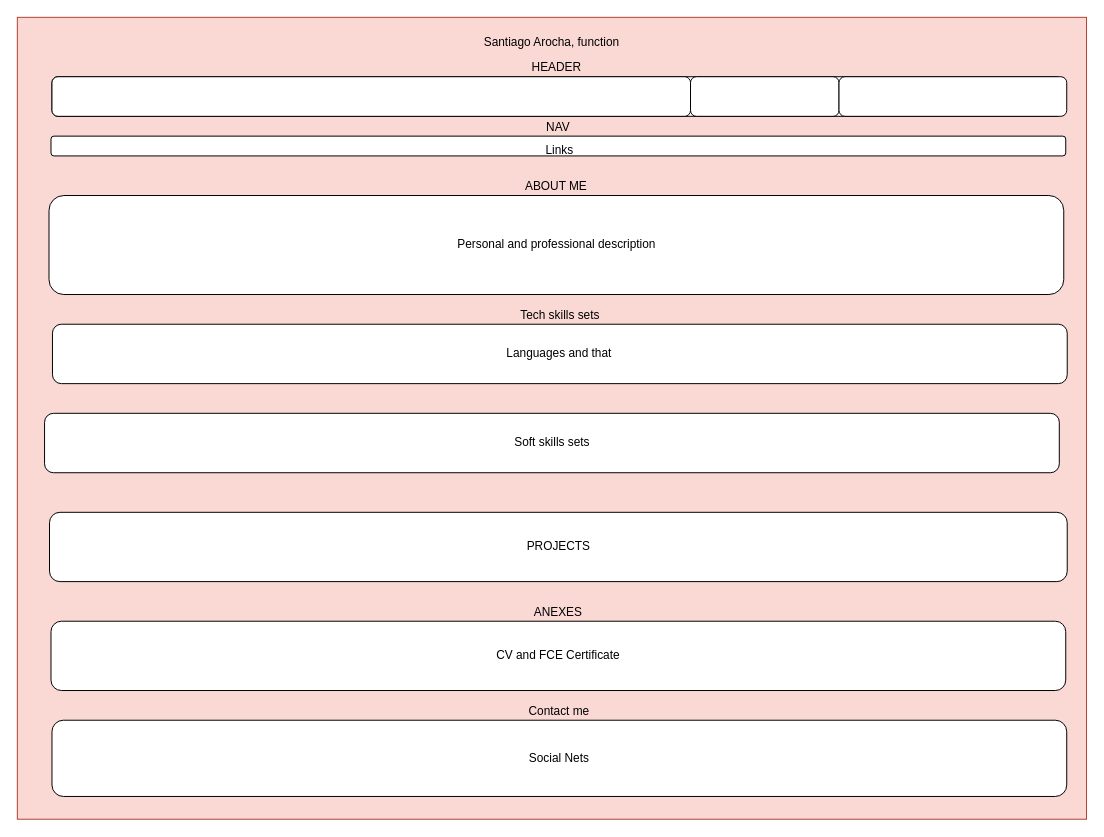
The diagram is 1104 pixels wide and 837 high, and some of its shapes have lost their labels. Each missing label, with the centre of its shape:
"Language" goes at point 764,96.
"Login / Signup" goes at point 952,96.
"PORTFOLIO" goes at point 371,96.
